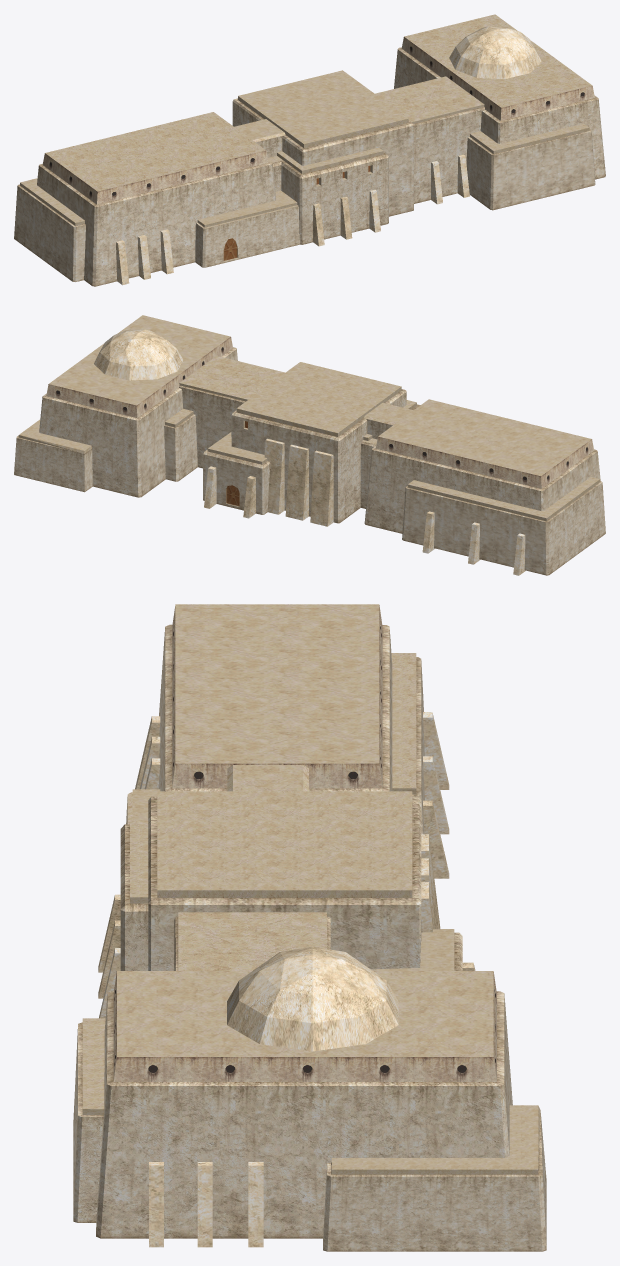
File: thm_tato_block_bldg_64x32_s02_l1.fbx
3 views of the same model, one above another, from view 1: azimuth 30°, elevation 25°; view 2: azimuth 150°, elevation 25°; view 3: azimuth 270°, elevation 25° (orthographic). The views are drawn at different scales.
Visible parts, largest first — view 1: mesh_node; view 2: mesh_node; view 3: mesh_node.
Part boxes in pixels (box(x1,y1,x2,y2)): mesh_node: box(14, 14, 605, 286); mesh_node: box(14, 315, 605, 575); mesh_node: box(73, 604, 546, 1251).
Size of the model in its own units: 77.98 by 17.28 by 31.65.
